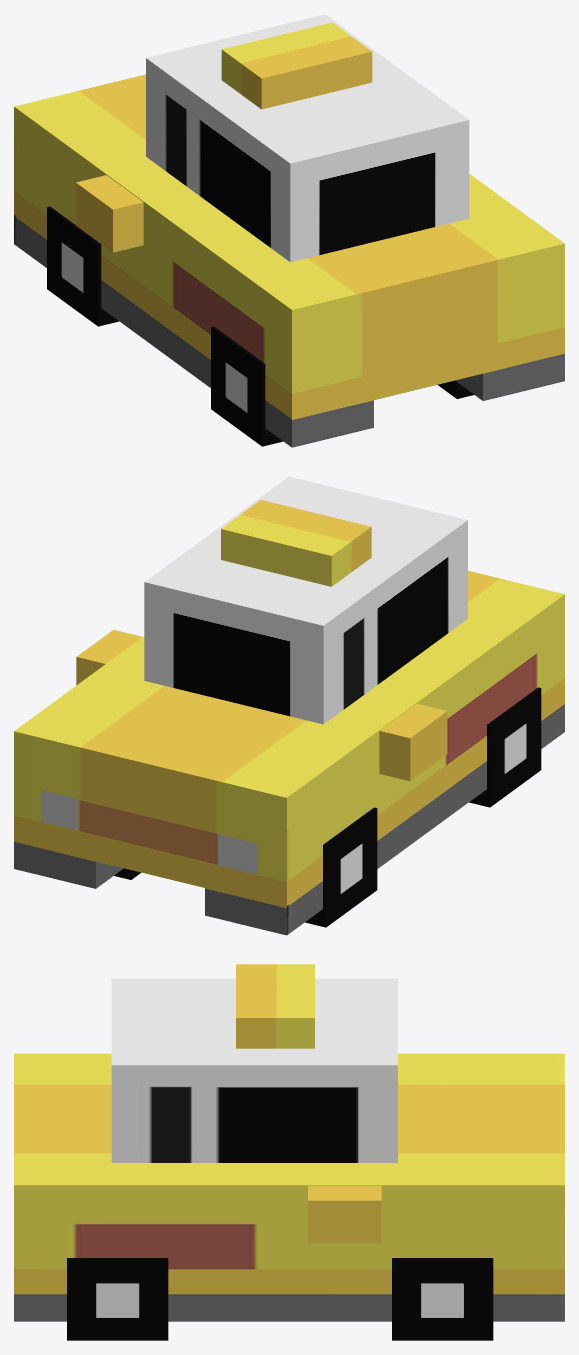
File: yellow car.fbx
The picture shows the model from 3 angles, top to bottom: view 1: azimuth 30°, elevation 25°; view 2: azimuth 150°, elevation 25°; view 3: azimuth 270°, elevation 25°; orthographic projection.
Parts seen in each view (by area): view 1: yellow_car_wiel3; view 2: yellow_car_wiel3; view 3: yellow_car_wiel3.
Part boxes in pixels (x1=…): yellow_car_wiel3: x1=14, y1=14, x2=564, y2=447; yellow_car_wiel3: x1=14, y1=476, x2=564, y2=935; yellow_car_wiel3: x1=14, y1=964, x2=564, y2=1340.
Size of the model in its own units: 2.04 by 1.66 by 2.94.
5 materials, 5 textured.
